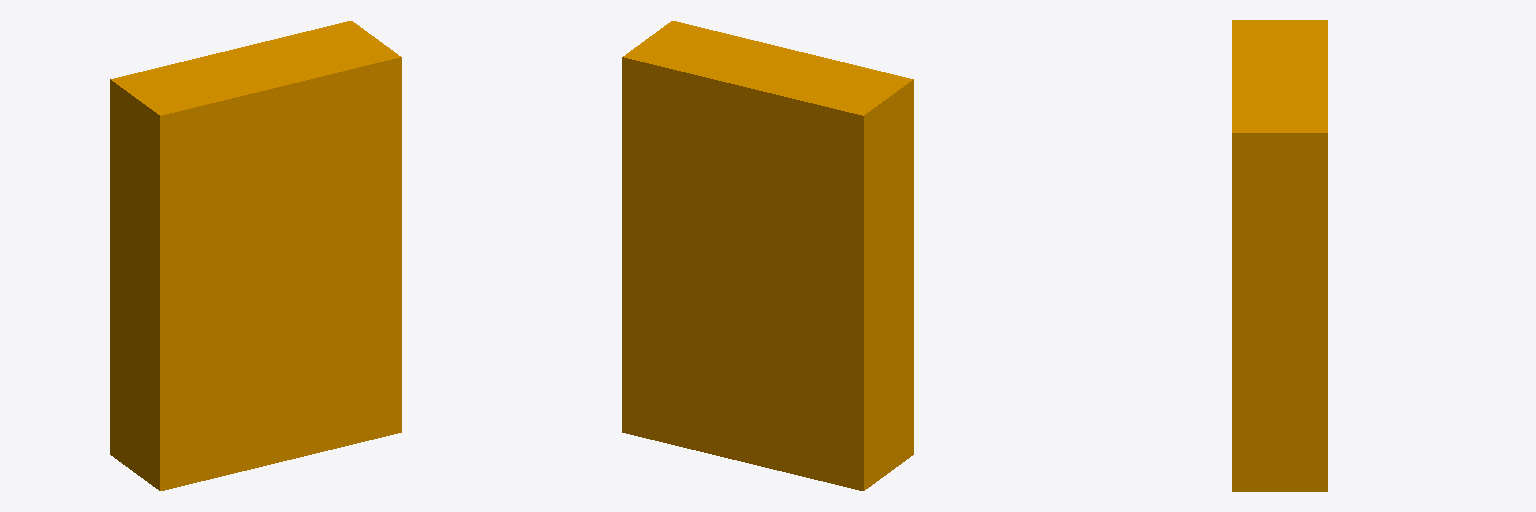
robot.urdf — shopping-cornflakes-box:
<?xml version="1.0" ?>
<robot name="shopping-cornflakes-box" xmlns:xacro="http://www.ros.org/wiki/xacro">
  <link name="link">
    <visual>
      <origin rpy="0 0 0" xyz="0 0 0"/>
      <geometry>
        <box size="0.195 0.07 0.29"/>
      </geometry>
      <material name="Gazebo/YellowGlow"/>
    </visual>
    <collision>
      <origin rpy="0 0 0" xyz="0 0 0"/>
      <contact_coefficients mu="1.0"/>
      <geometry>
        <box size="0.195 0.07 0.29"/>
      </geometry>
      <surface>
        <friction>
          <ode>
            <mu>1</mu>
            <mu2>1</mu2>
          </ode>
        </friction>
      </surface>
    </collision>
    <inertial>
      <mass value="0.4"/>
      <inertia ixx="0.00370833333333" ixy="0" ixz="0" iyy="0.00508854166667" iyz="0" izz="0.00178854166667"/>
    </inertial>
  </link>
  <gazebo reference="link">
    <material>Gazebo/YellowGlow</material>
  </gazebo>
</robot>

--- Render facts (derived) ---
3 views of the same robot in one strip: view 1: azimuth 30°, elevation 25°; view 2: azimuth 150°, elevation 25°; view 3: azimuth 270°, elevation 25° (orthographic).
Robot: shopping-cornflakes-box — 1 links, 0 joints (none); root link link; default pose: all joints at 0.
Links seen in each view (by area): view 1: link; view 2: link; view 3: link.
Boxes of the visible links, x1=… form: link: x1=110, y1=21, x2=401, y2=490; link: x1=622, y1=21, x2=913, y2=490; link: x1=1232, y1=20, x2=1327, y2=491.
Bounding box of the posed robot: 0.195 × 0.07 × 0.29 m (x, y, z).
Geometry: primitives only (box / cylinder / sphere), no mesh files.